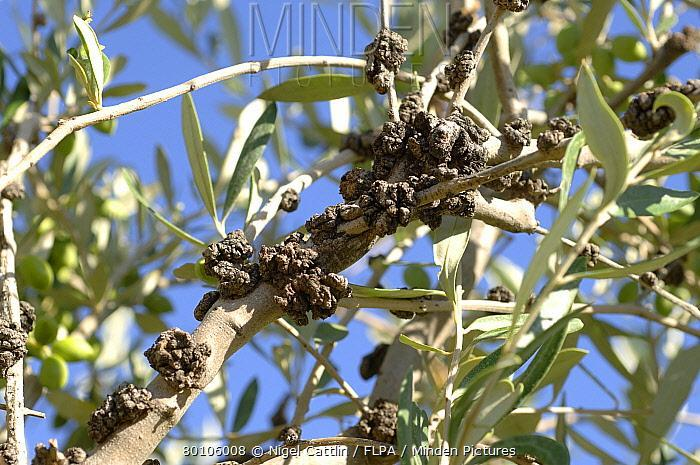Tuberculosis: (258, 233, 348, 328), (412, 110, 492, 179), (141, 326, 215, 392), (199, 227, 263, 302), (86, 380, 159, 444), (355, 177, 421, 240), (615, 88, 700, 135), (357, 27, 412, 96), (351, 396, 415, 446), (0, 297, 39, 375), (371, 118, 412, 180), (534, 113, 588, 157), (440, 47, 477, 92), (336, 167, 378, 200), (500, 111, 535, 149), (193, 288, 221, 324), (399, 88, 425, 123), (486, 283, 518, 307), (276, 189, 305, 213), (489, 0, 535, 15), (1, 178, 26, 204), (275, 423, 304, 445), (579, 239, 602, 264), (639, 268, 658, 293)
